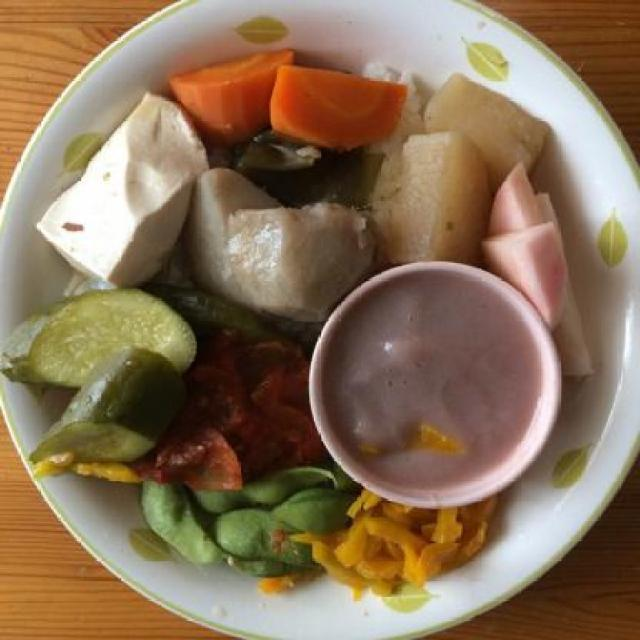Cucumber: (13, 288, 216, 402), (30, 346, 188, 464)
